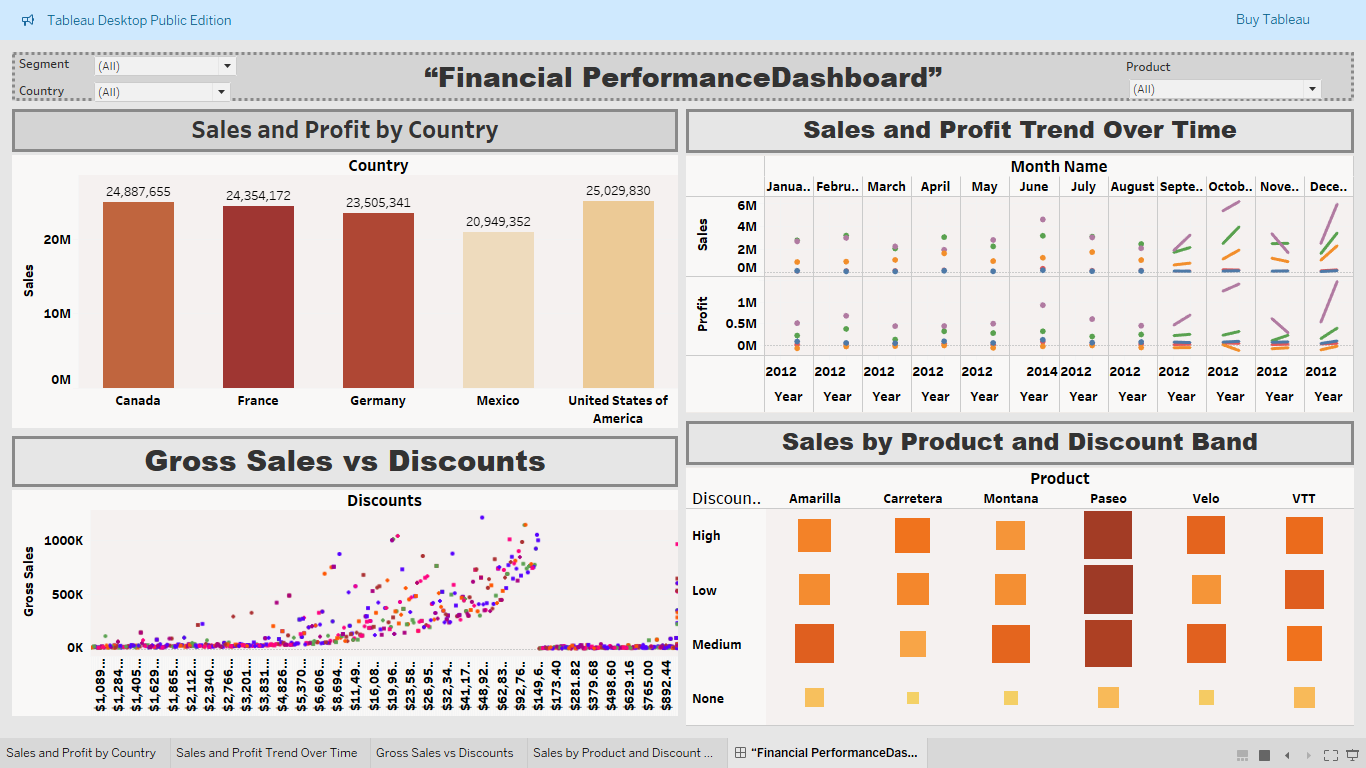

What the dashboard file says about the page in this screenshot:
{"tool":"tableau","page":{"name":"“Financial PerformanceDashboard”","canvas":[1000,1000],"units":"permille","ordinal":0},"visuals":[{"type":"title","box":[6.9,14.7,986.1,104.8]},{"type":"filter","title":"Sales and Profit by Country","param":"[federated.0dkr4h81fp9n8416i36an1wuxkc6].[none:Segment:nk]","box":[13.8,18.4,161.9,40.4]},{"type":"filter","title":"Sales and Profit by Country","param":"[federated.0dkr4h81fp9n8416i36an1wuxkc6].[none:Product :nk]","box":[824.2,25.7,145.5,73.5]},{"type":"filter","title":"Gross Sales vs Discounts","param":"[federated.0dkr4h81fp9n8416i36an1wuxkc6].[none:Country:nk]","box":[13.8,57,157.6,34.9]},{"type":"worksheet","title":"Sales and Profit by Country","mark":"Bar","rows":["Sales "],"cols":["Country"],"box":[6.9,119.5,492.6,453.6]},{"type":"worksheet","title":"Sales and Profit Trend Over Time","mark":"Line","rows":["Sales ","Profit "],"cols":["Month Name ","Year"],"box":[499.5,119.5,493.5,432.8]},{"type":"worksheet","title":"Sales by Product and Discount Band","mark":"Automatic","rows":["Discount Band "],"cols":["Product "],"box":[499.5,552.3,493.5,433]},{"type":"worksheet","title":"Gross Sales vs Discounts","mark":"Automatic","rows":["Gross Sales "],"cols":["Discounts "],"box":[6.9,573.1,492.6,412.2]}]}

Visuals, with their boxes on the dashboard's canvas, which has no fixed pixel size, in thousandths of its width and height (x1, y1, x2, y2). These are canvas units, not pixel positions in the 1366x768 screenshot, which may show the page scaled, cropped or inside an application window:
title: (7,15,993,120)
"Sales and Profit by Country" filter: (14,18,176,59)
"Sales and Profit by Country" filter: (824,26,970,99)
"Gross Sales vs Discounts" filter: (14,57,171,92)
"Sales and Profit by Country" worksheet (Bar marks): (7,120,500,573)
"Sales and Profit Trend Over Time" worksheet (Line marks): (500,120,993,552)
"Sales by Product and Discount Band" worksheet: (500,552,993,985)
"Gross Sales vs Discounts" worksheet: (7,573,500,985)
